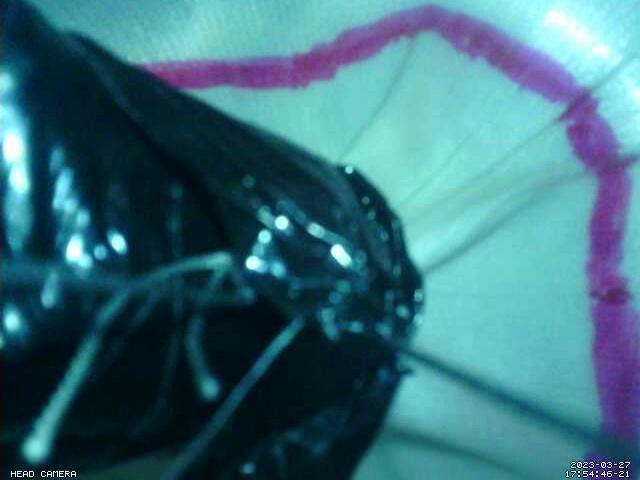red-circle: (141, 4, 640, 480)
